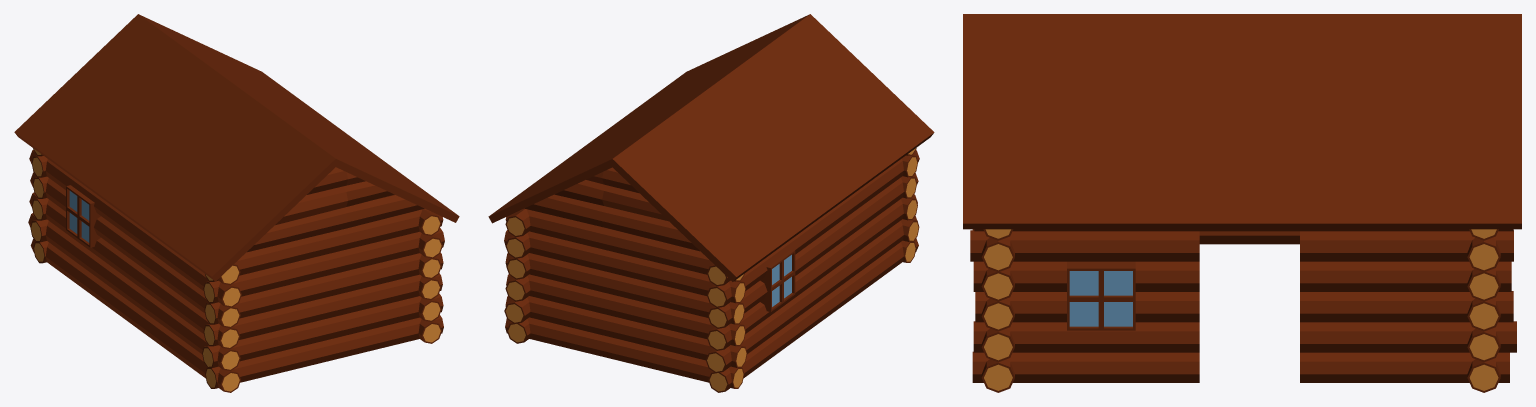
File: cabin_1.fbx
3 views of the same model, side by side, from view 1: azimuth 30°, elevation 25°; view 2: azimuth 150°, elevation 25°; view 3: azimuth 270°, elevation 25° (orthographic). The views are drawn at different scales.
Parts seen in each view (by area): view 1: roof, cabin walls, window 1; view 2: roof, cabin walls, window 1; view 3: roof, cabin walls, window 2.
Part boxes in pixels (left/top/right/bottom): roof: left=14, top=14, right=459, bottom=281; cabin walls: left=28, top=148, right=444, bottom=392; window 1: left=66, top=185, right=100, bottom=247; roof: left=488, top=14, right=934, bottom=281; cabin walls: left=504, top=148, right=919, bottom=392; window 1: left=760, top=249, right=795, bottom=311; roof: left=963, top=14, right=1521, bottom=229; cabin walls: left=970, top=229, right=1516, bottom=392; window 2: left=1067, top=261, right=1135, bottom=330.
Size of the model in its own units: 689 by 563 by 952.
